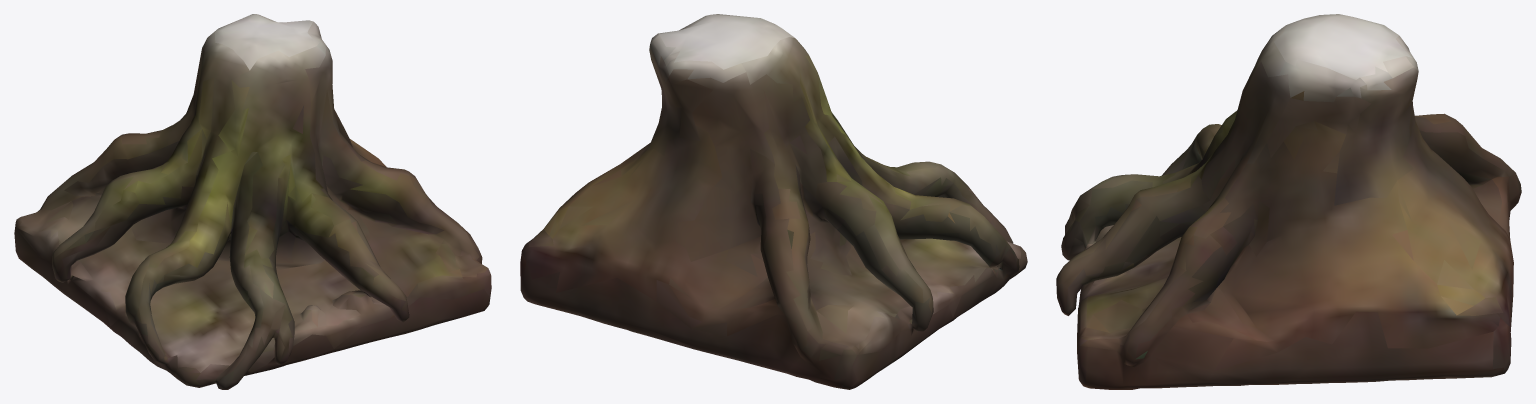
The model's file is m15_raiz_tronco.glb.
3 renders of one model, left to right at view 1: azimuth 30°, elevation 25°; view 2: azimuth 150°, elevation 25°; view 3: azimuth 270°, elevation 25°, orthographic. The views are drawn at different scales.
Parts seen in each view (by area): view 1: m15_raiz_tronco; view 2: m15_raiz_tronco; view 3: m15_raiz_tronco.
Part boxes in pixels (x1=…): m15_raiz_tronco: x1=14, y1=14, x2=491, y2=389; m15_raiz_tronco: x1=520, y1=14, x2=1027, y2=389; m15_raiz_tronco: x1=1056, y1=14, x2=1521, y2=389.
Bounding box in the file's own units: 1.03 × 0.7331 × 1.02.
Materials: 1 (1 with a texture image).
